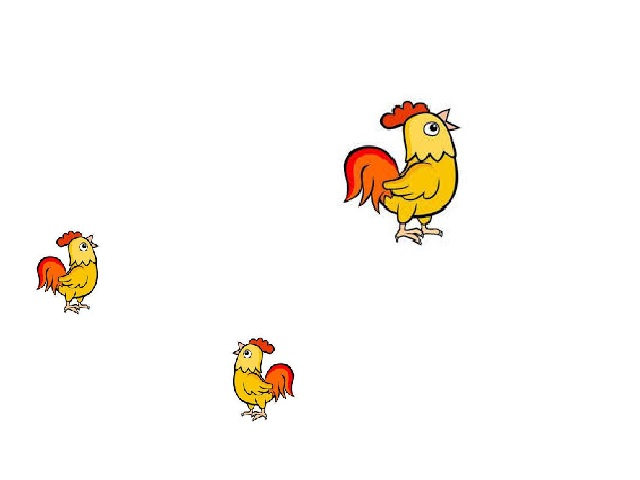crown: (375, 100, 430, 127), (248, 334, 277, 355), (54, 230, 82, 247)
eyes: (423, 121, 440, 139), (242, 348, 252, 356), (79, 243, 87, 251)
feet: (393, 222, 443, 245), (62, 303, 92, 317), (242, 411, 271, 423)
tail: (340, 142, 402, 214), (265, 363, 300, 404), (33, 254, 67, 296)
